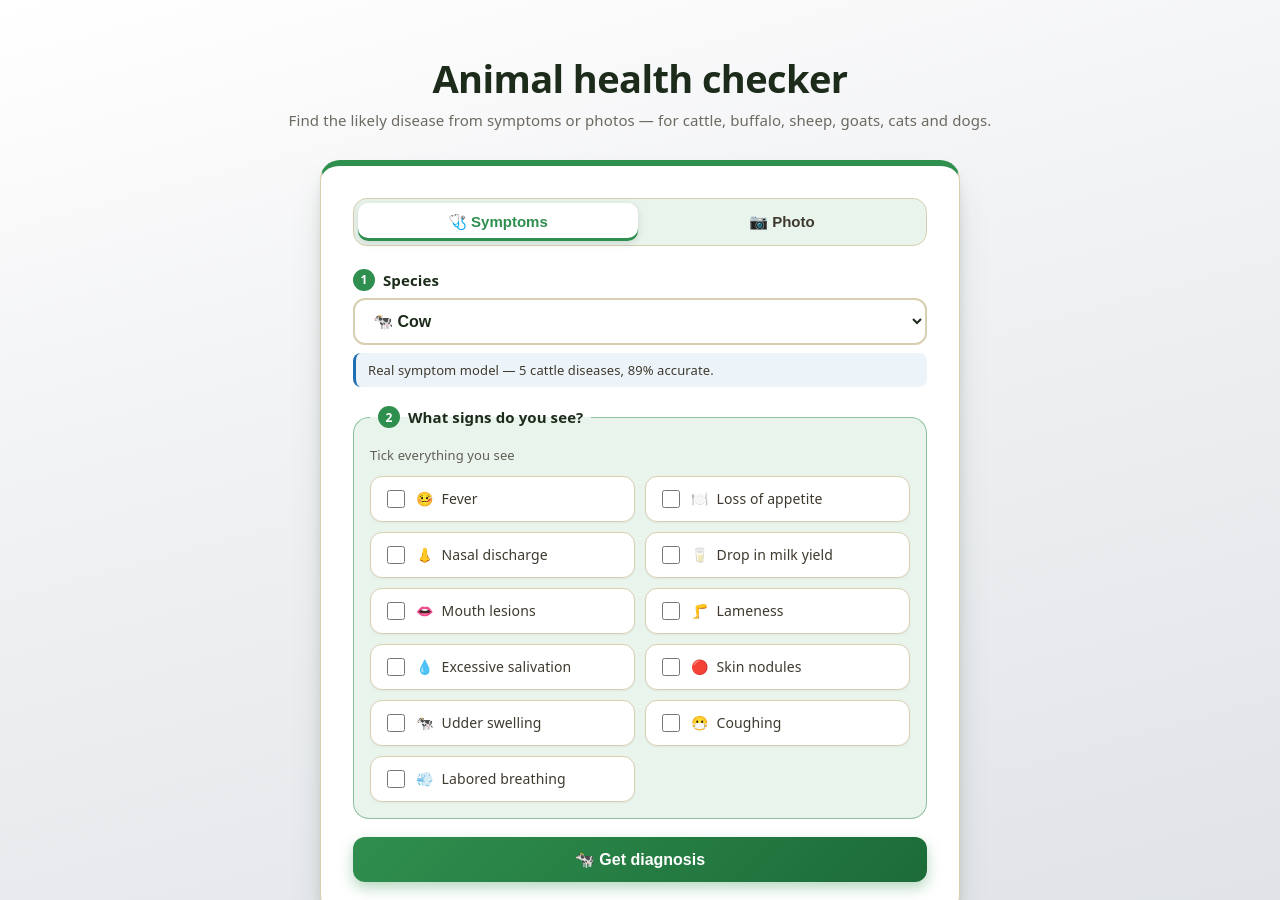
DiagnosisIntake › gives Goat the PPR symptom screen and still offers photo diagnosis
The image size is (1280, 900).
Select "🐐 Goat" in the dropdown labelled "1 Species" at (640, 321), box left=353, top=298, right=927, bottom=345
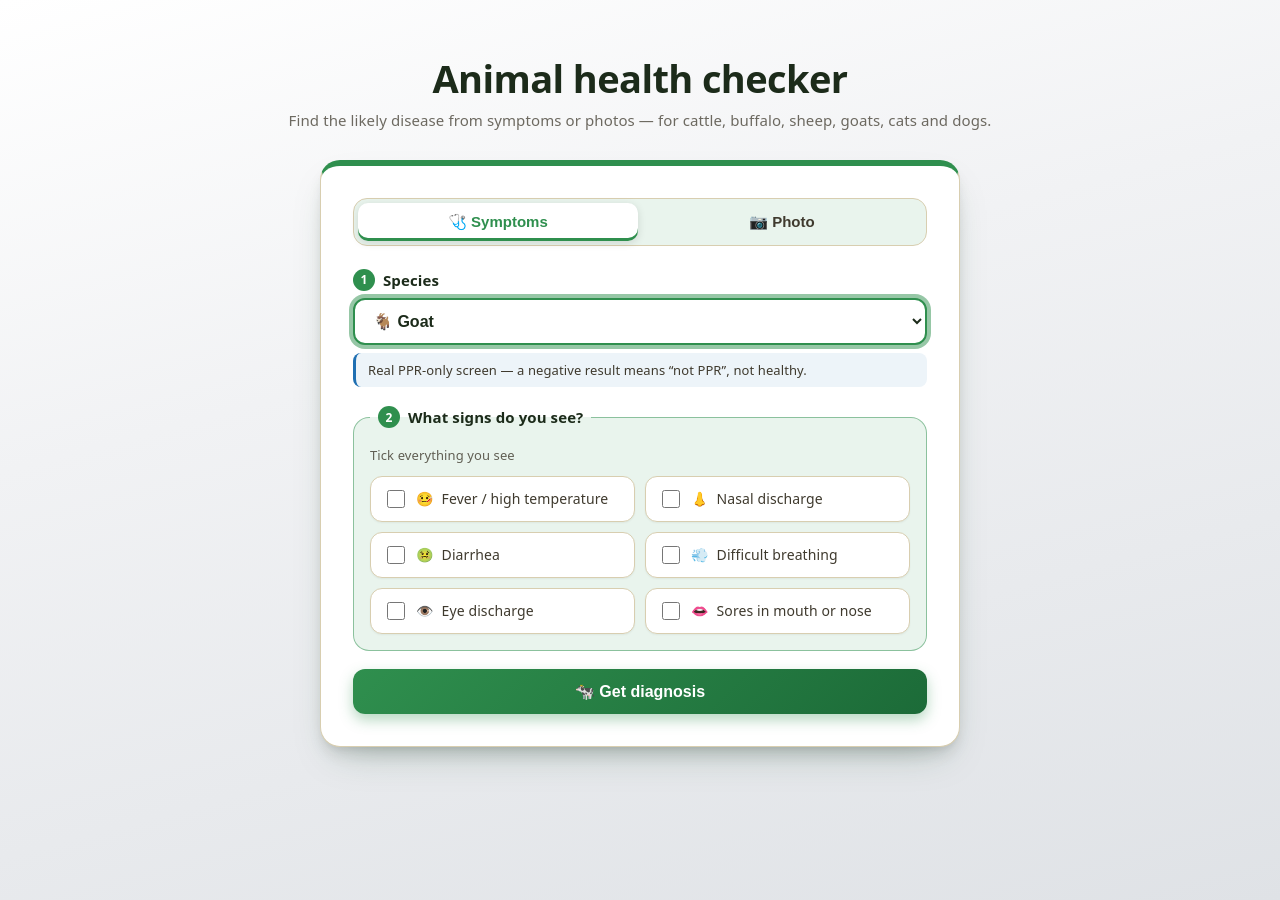
Expected: the checkbox labelled "👄 Sores in mouth or nose" is shown, left=662, top=602, right=680, bottom=620
Result: the text "Real PPR-only screen" is shown at left=368, top=361, right=807, bottom=379
Result: the label labelled "Mouth lesions" is gone
Click the checkbox labelled "👃 Nasal discharge" at (671, 499), box left=662, top=490, right=680, bottom=508
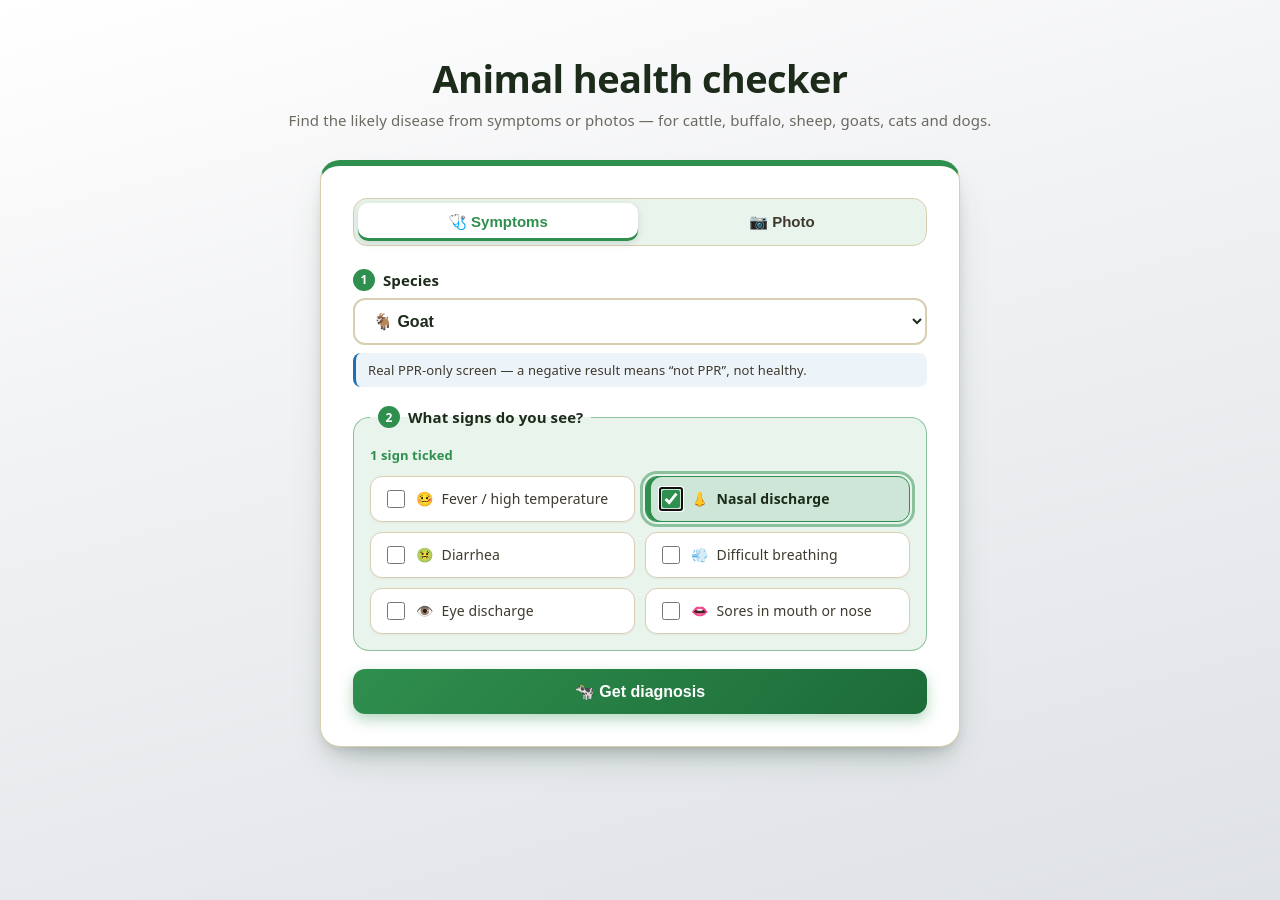
Click the checkbox labelled "👄 Sores in mouth or nose" at (671, 611), box left=662, top=602, right=680, bottom=620
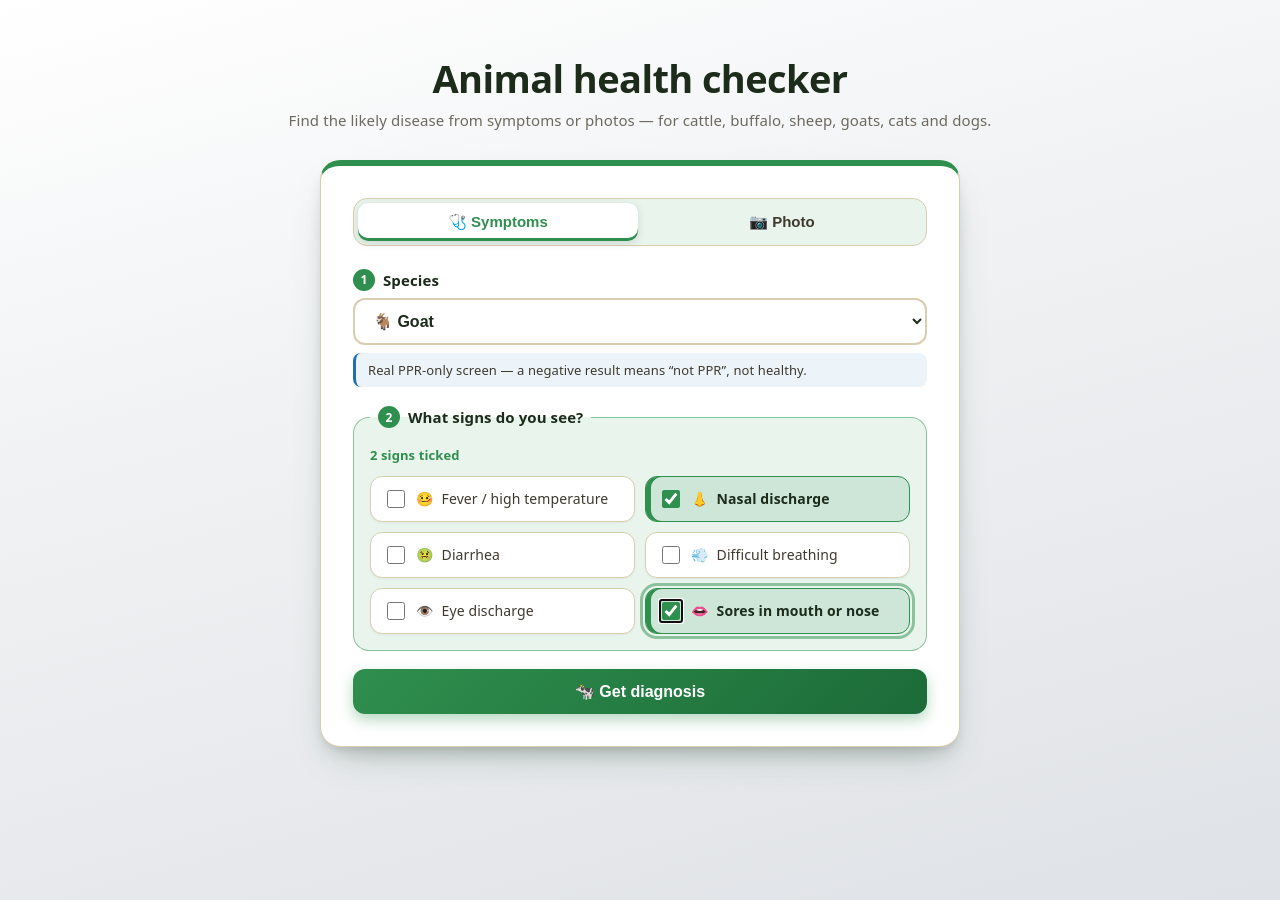
Click the button "🐄 Get diagnosis" at (640, 692), box left=353, top=669, right=927, bottom=714
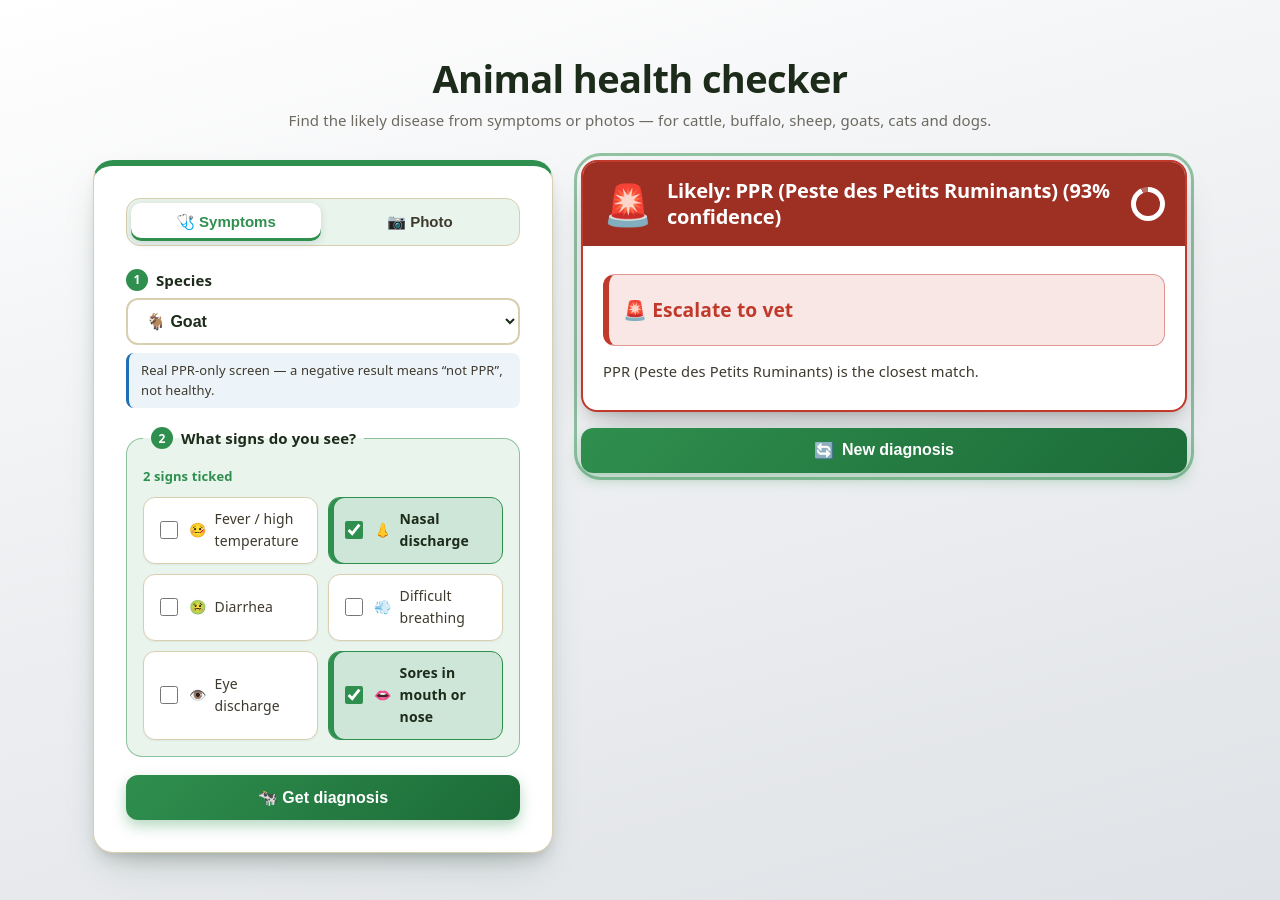
Result: the heading "Likely: PPR (Peste des Petits Ruminants) (93% confidence)" is shown at left=667, top=178, right=1119, bottom=230
Result: the text "Escalate to vet" is shown at left=652, top=296, right=793, bottom=323
Click the tab "📷 Photo" at (420, 222), box left=325, top=203, right=515, bottom=241
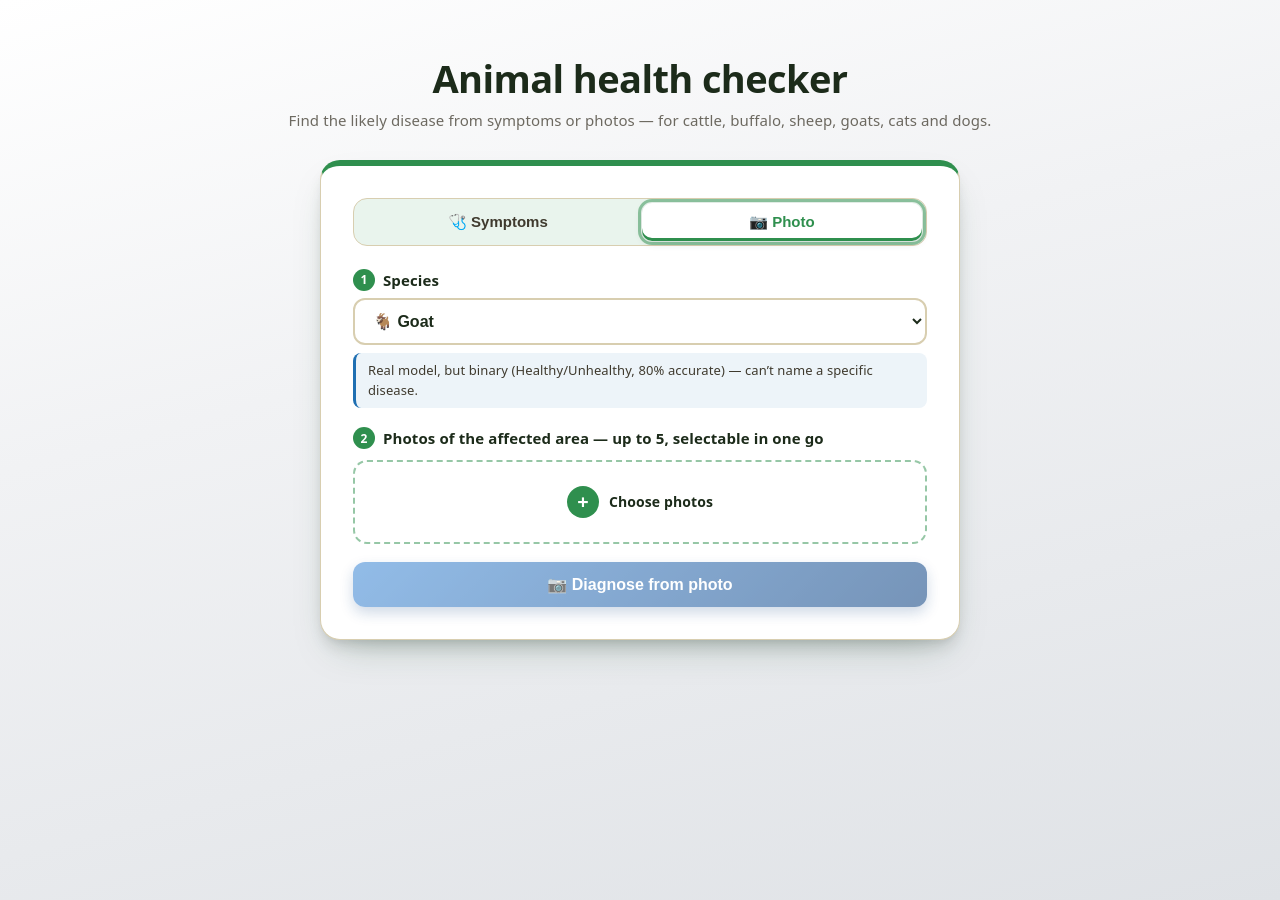
Result: the text "binary (Healthy/Unhealthy" is shown at left=368, top=361, right=873, bottom=399
